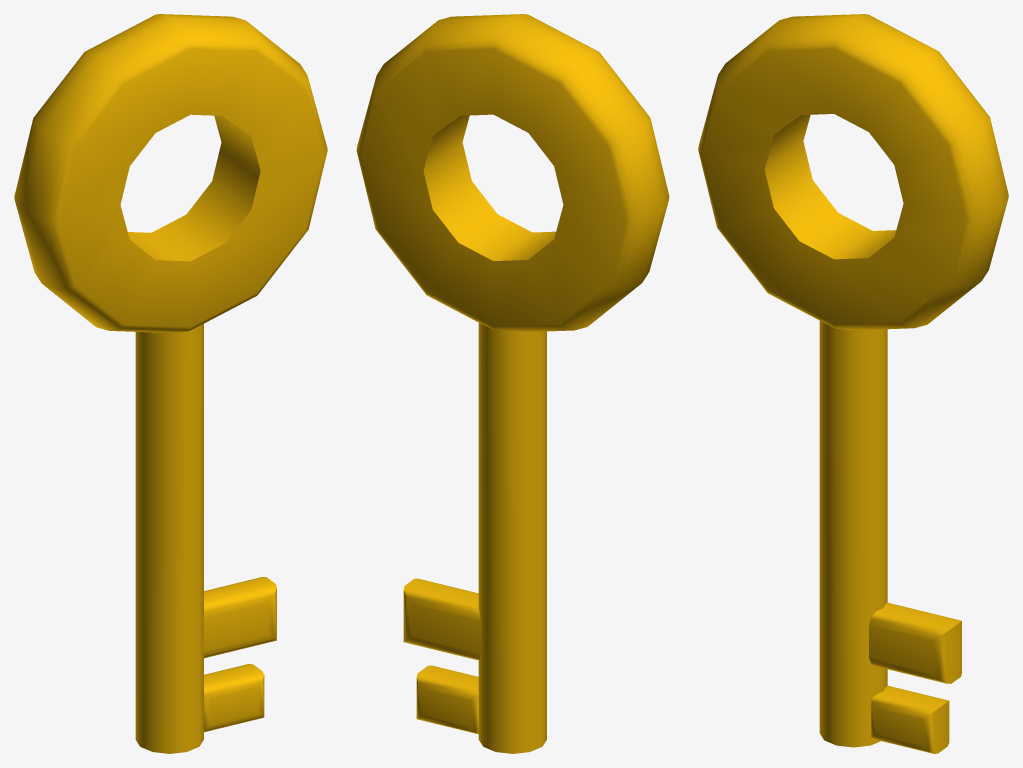
Rendered from Key.fbx.
The picture shows the model from 3 angles, left to right: view 1: azimuth 30°, elevation 25°; view 2: azimuth 150°, elevation 25°; view 3: azimuth 330°, elevation 25°; orthographic projection.
Visible parts, largest first — view 1: Key; view 2: Key; view 3: Key.
Part boxes in pixels (box(x1,y1,x2,y2)): Key: box(14, 14, 327, 753); Key: box(356, 14, 669, 753); Key: box(698, 14, 1008, 753).
Size of the model in its own units: 0.0702 by 0.1623 by 0.016.
